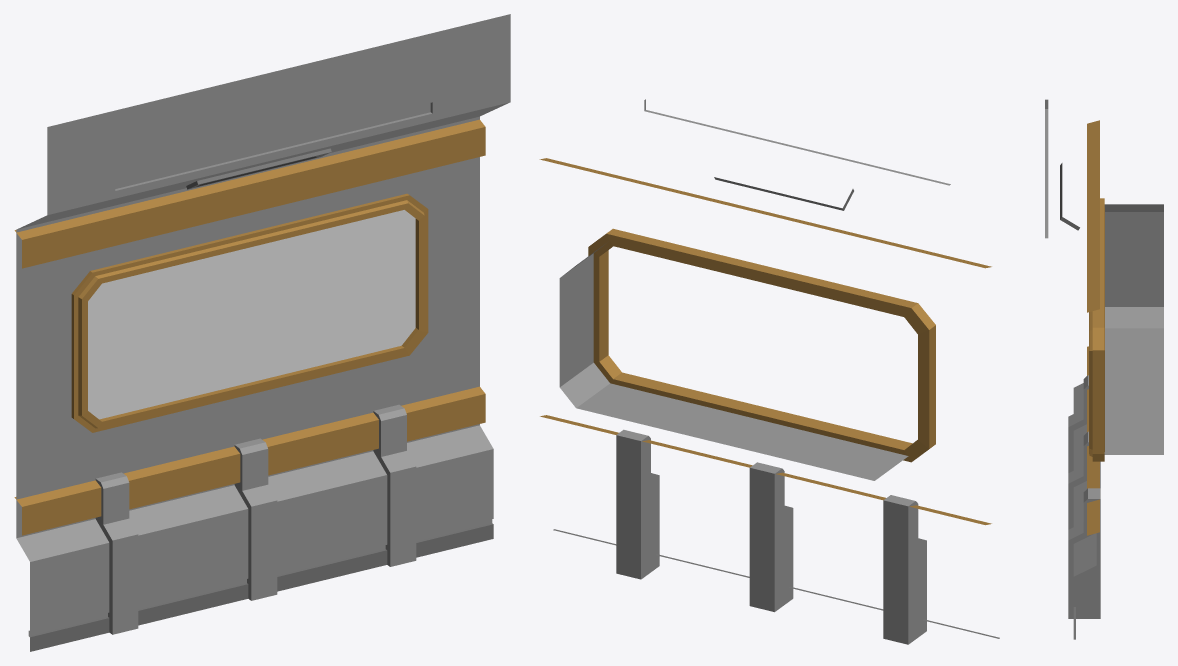
File: Window_Wall_SideA.glb
3 views of the same model, side by side, from view 1: azimuth 30°, elevation 25°; view 2: azimuth 150°, elevation 25°; view 3: azimuth 270°, elevation 25° (orthographic). The views are drawn at different scales.
Visible parts, largest first — view 1: Window_Wall_SideA; view 2: Window_Wall_SideA; view 3: Window_Wall_SideA.
Boxes of the visible parts, x1=… form: Window_Wall_SideA: x1=14, y1=14, x2=510, y2=651; Window_Wall_SideA: x1=539, y1=99, x2=999, y2=644; Window_Wall_SideA: x1=1045, y1=99, x2=1163, y2=639.
Bounding box in the file's own units: 4 × 4.43 × 1.06.
